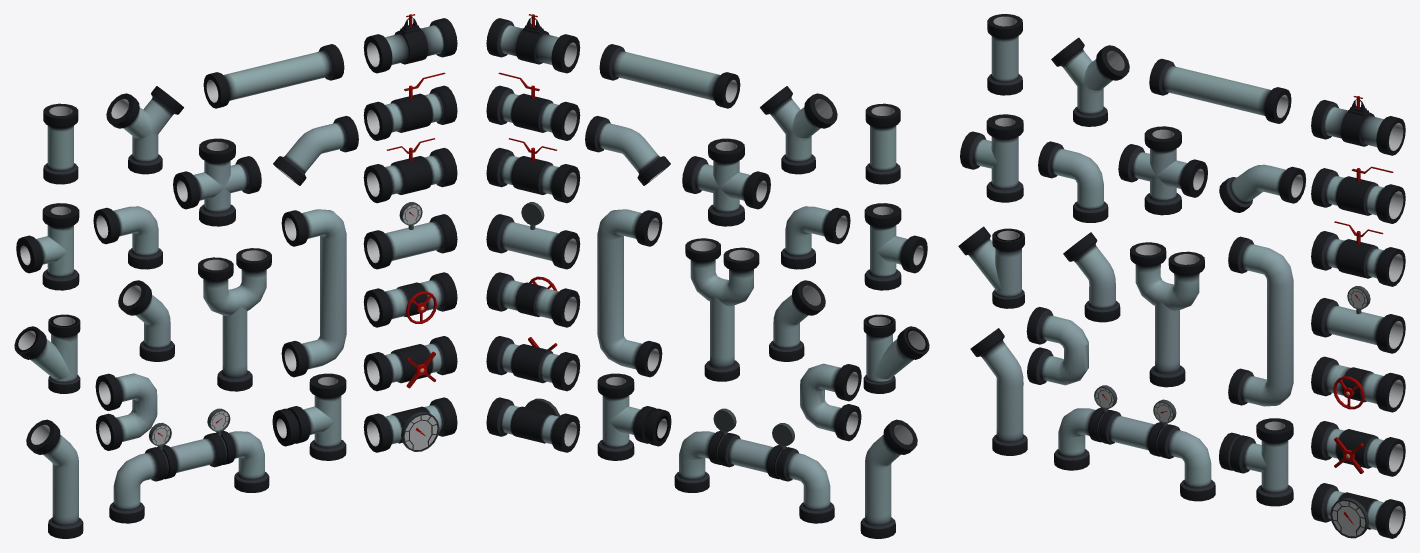
The model's file is Pipes2Pack.fbx.
3 views of the same model, side by side, from view 1: azimuth 30°, elevation 25°; view 2: azimuth 150°, elevation 25°; view 3: azimuth 330°, elevation 25° (orthographic).
Visible parts, largest first — view 1: Pipes14, Pipes12, Pipes11, Pipes6, Pipes3, Pipes15, Pipes13, Pipes4, Pipes9, Pipes2, Pipes04, Pipes07 (+10 smaller); view 2: Pipes14, Pipes12, Pipes11, Pipes6, Pipes3, Pipes15, Pipes13, Pipes4, Pipes9, Pipes2, Pipes04, Pipes8 (+10 smaller); view 3: Pipes14, Pipes12, Pipes11, Pipes6, Pipes3, Pipes15, Pipes4, Pipes13, Pipes9, Pipes2, Pipes04, Pipes07 (+10 smaller).
Boxes of the visible parts, x1,y1,x2,y2 form: Pipes14: (109, 408, 269, 523); Pipes12: (281, 209, 346, 377); Pipes11: (198, 248, 271, 391); Pipes6: (173, 138, 261, 226); Pipes3: (203, 44, 344, 108); Pipes15: (272, 373, 346, 460); Pipes13: (26, 419, 83, 538); Pipes4: (16, 203, 79, 290); Pipes9: (95, 373, 157, 450); Pipes2: (106, 86, 183, 174); Pipes04: (363, 202, 457, 269); Pipes07: (363, 397, 457, 452); Pipes14: (674, 408, 834, 523); Pipes12: (597, 209, 662, 377); Pipes11: (685, 238, 759, 381); Pipes6: (682, 138, 770, 226); Pipes3: (599, 44, 740, 108); Pipes15: (597, 373, 671, 460); Pipes13: (860, 419, 917, 538); Pipes4: (864, 203, 927, 290); Pipes9: (800, 363, 861, 441); Pipes2: (760, 86, 837, 174); Pipes04: (486, 202, 580, 269); Pipes8: (863, 314, 929, 393); Pipes14: (1054, 385, 1215, 501); Pipes12: (1228, 236, 1293, 406); Pipes11: (1130, 242, 1204, 387); Pipes6: (1118, 126, 1207, 215); Pipes3: (1149, 58, 1291, 123); Pipes15: (1219, 418, 1293, 506); Pipes4: (960, 114, 1023, 202); Pipes13: (970, 328, 1027, 455); Pipes9: (1026, 307, 1088, 385); Pipes2: (1051, 37, 1129, 126); Pipes04: (1311, 286, 1405, 353); Pipes07: (1311, 483, 1405, 538).
Size of the model in its own units: 1427 by 1370 by 146.
